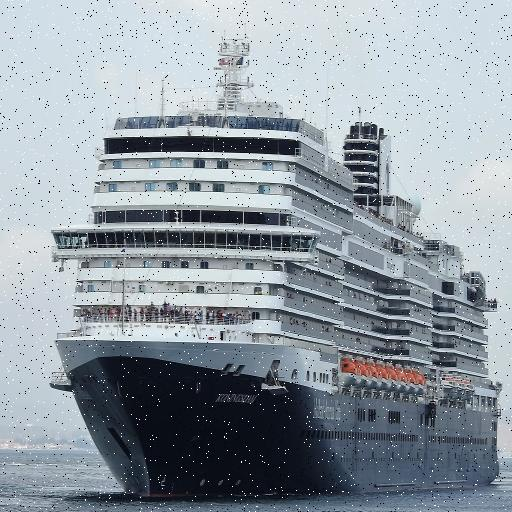cruises: (48, 35, 510, 510)
